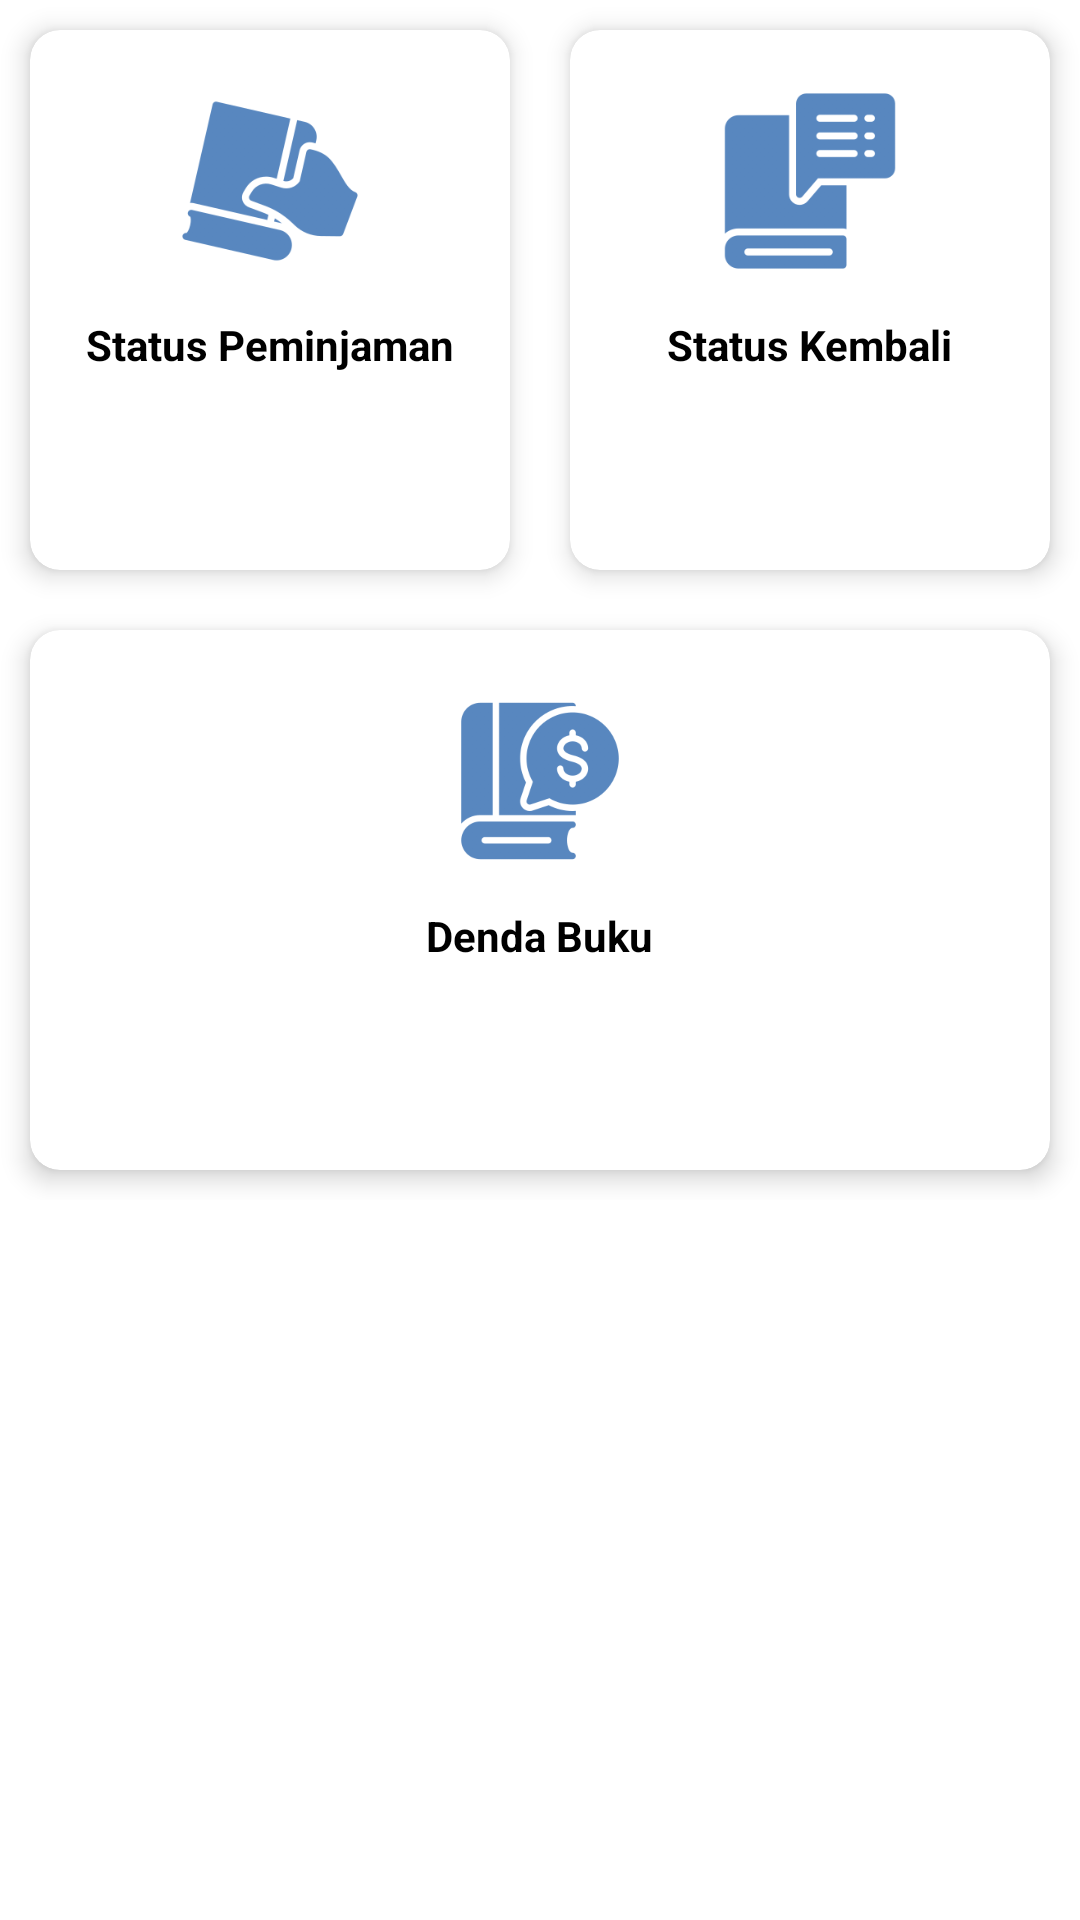

Named icons in this screenshot (1080 x 1920) and their centers, (x=x, y=y):
borrow: (x=270, y=181)
fine: (x=540, y=781)
